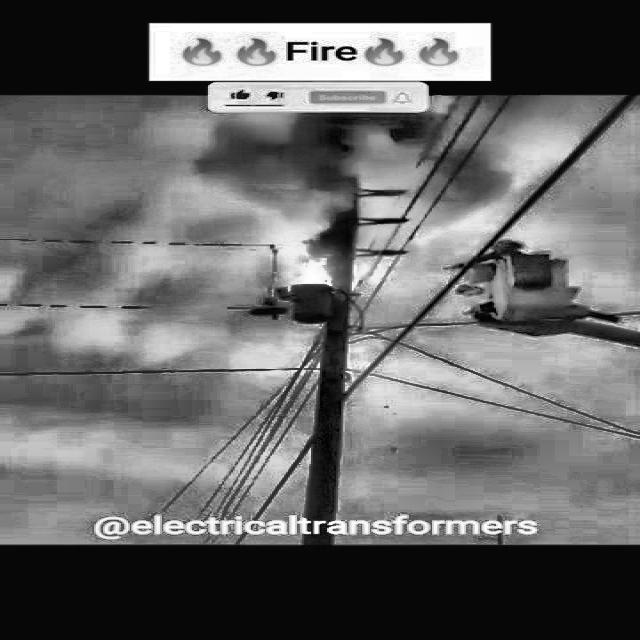Fire: (292, 257, 345, 291)
